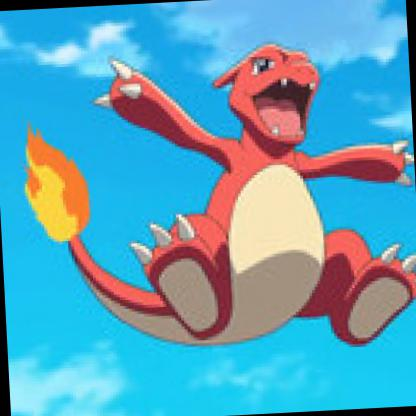Charmeleon: (1, 43, 416, 416)
